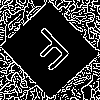F: (25, 25, 79, 79)
